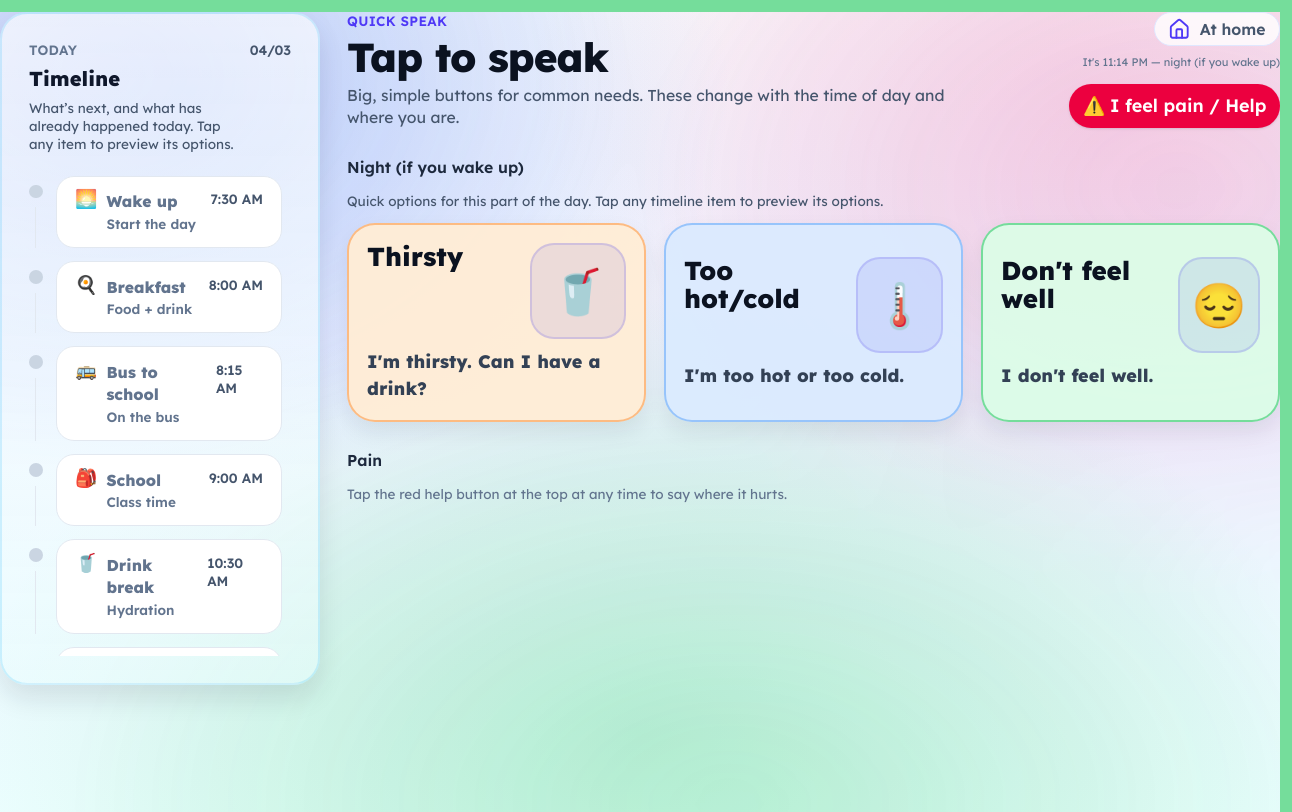
follow-up panel opens after option with followUp
Click the button titled "preview breakfast options" at (169,297), box [56,261,282,333]
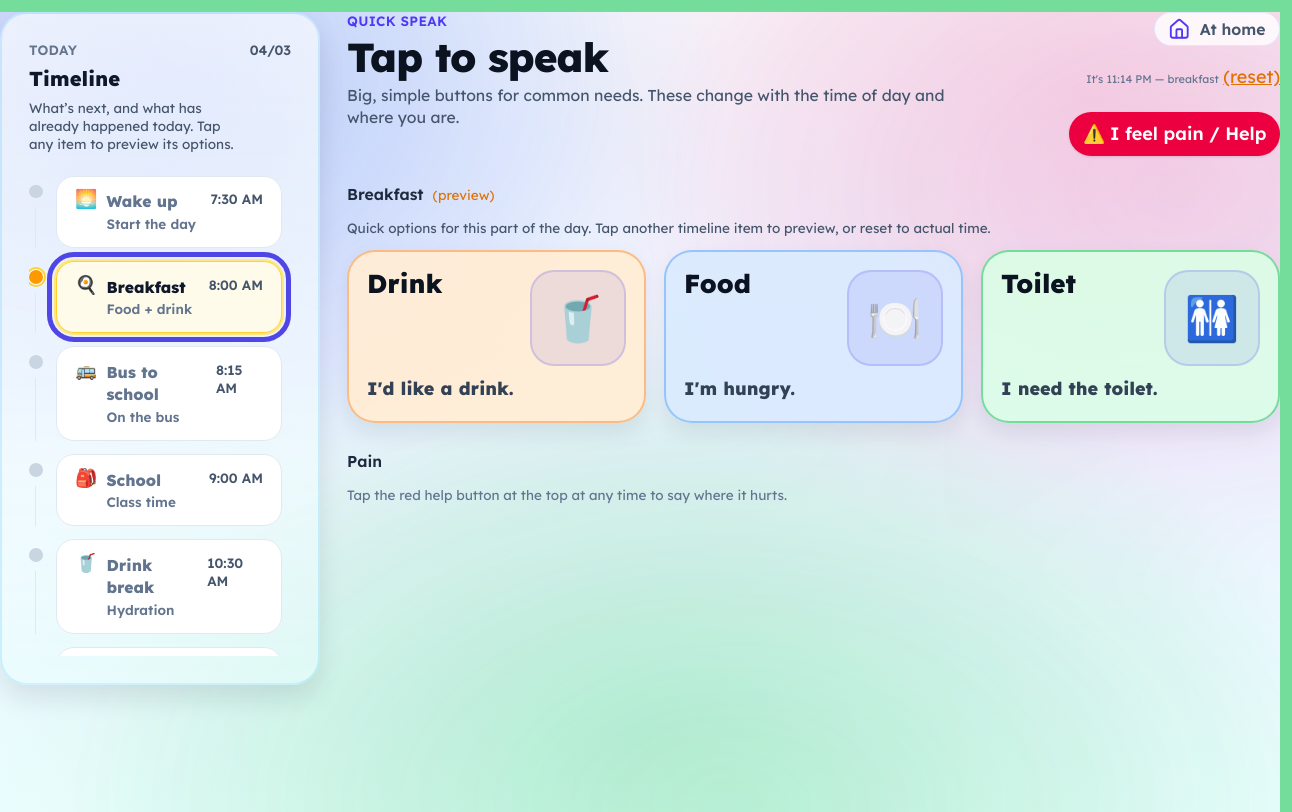
Click the button "Drink 🥤 I'd like a drink." at (405,284), box [347,250,646,423]
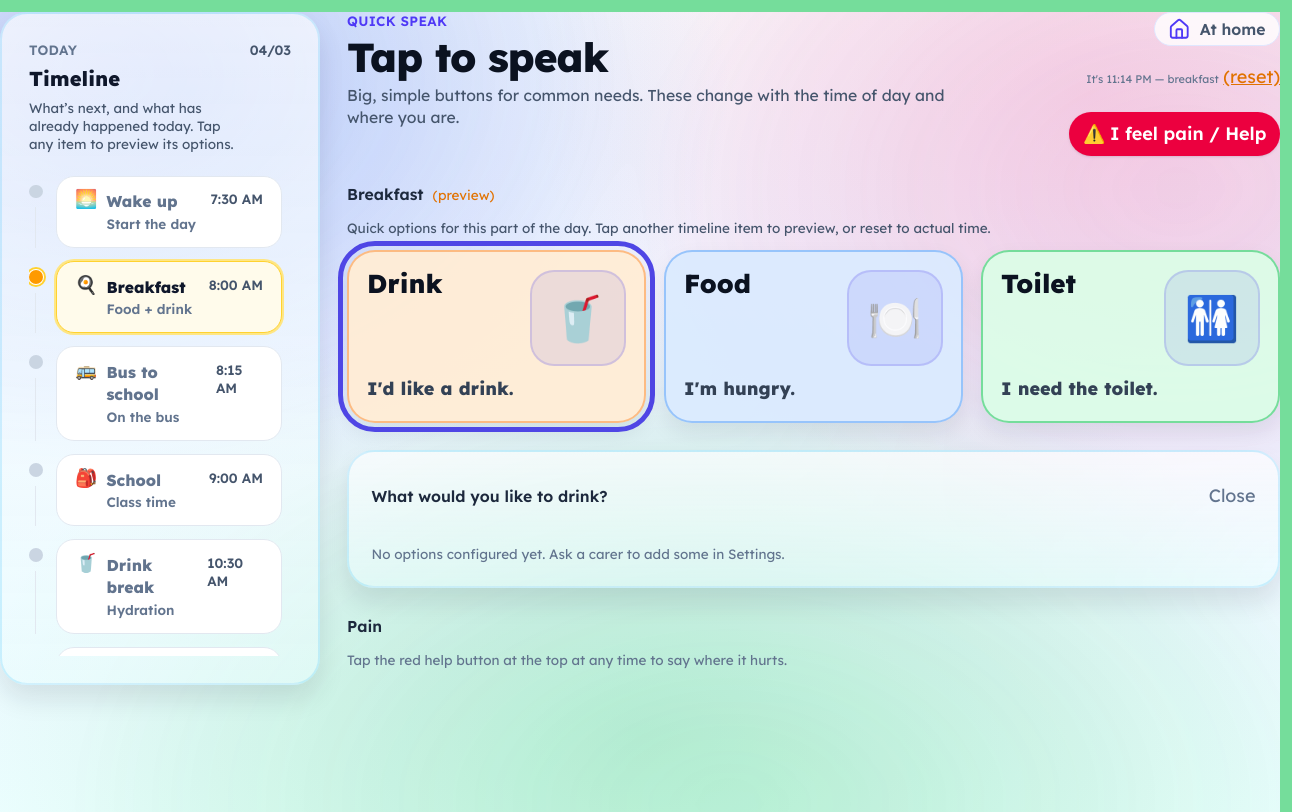
Expected: the heading "What would you like to drink?" is shown, [372,485,608,507]
Click the button "Close" at (1232,496), box [1209,474,1256,518]
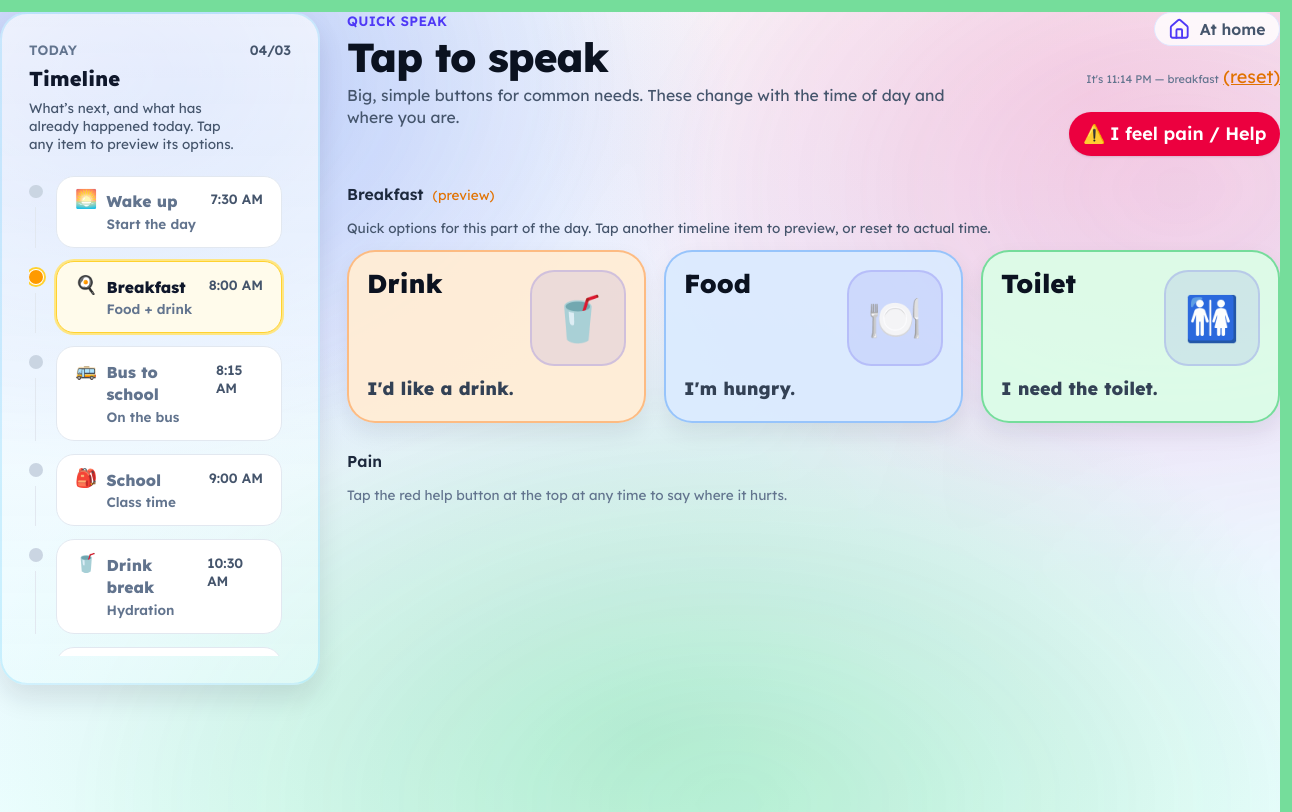
Expected: the heading "What would you like to drink" is gone
